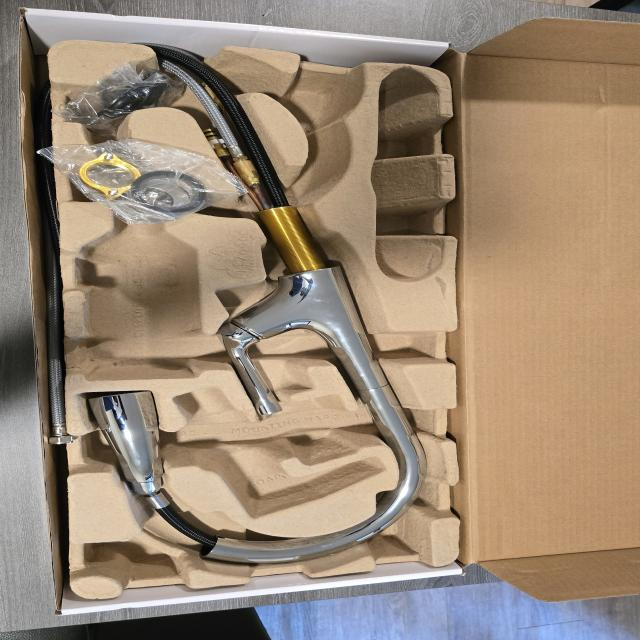1: (85, 42, 429, 566)
2m: (174, 389, 384, 516)
3m: (80, 208, 196, 379)
4m: (368, 67, 444, 279)
5m: (284, 72, 357, 125)
6: (35, 135, 260, 224)
7: (56, 62, 183, 130)
